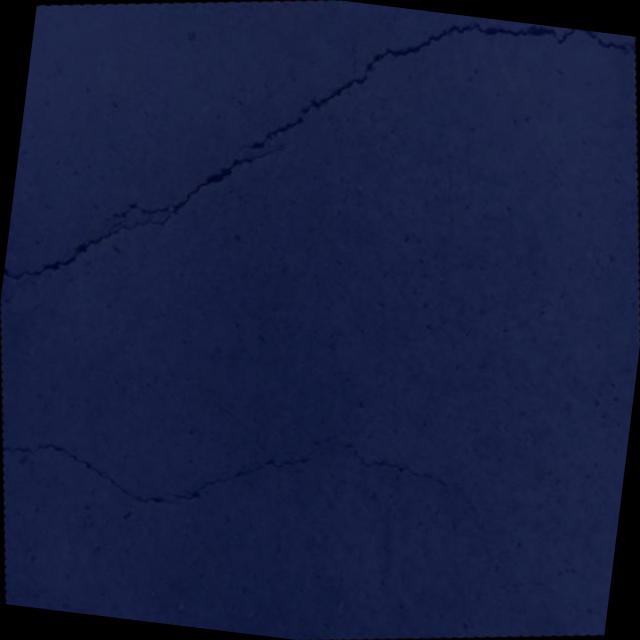crack: (0, 376, 475, 565), (223, 0, 640, 197), (0, 121, 292, 348), (471, 521, 615, 640)
